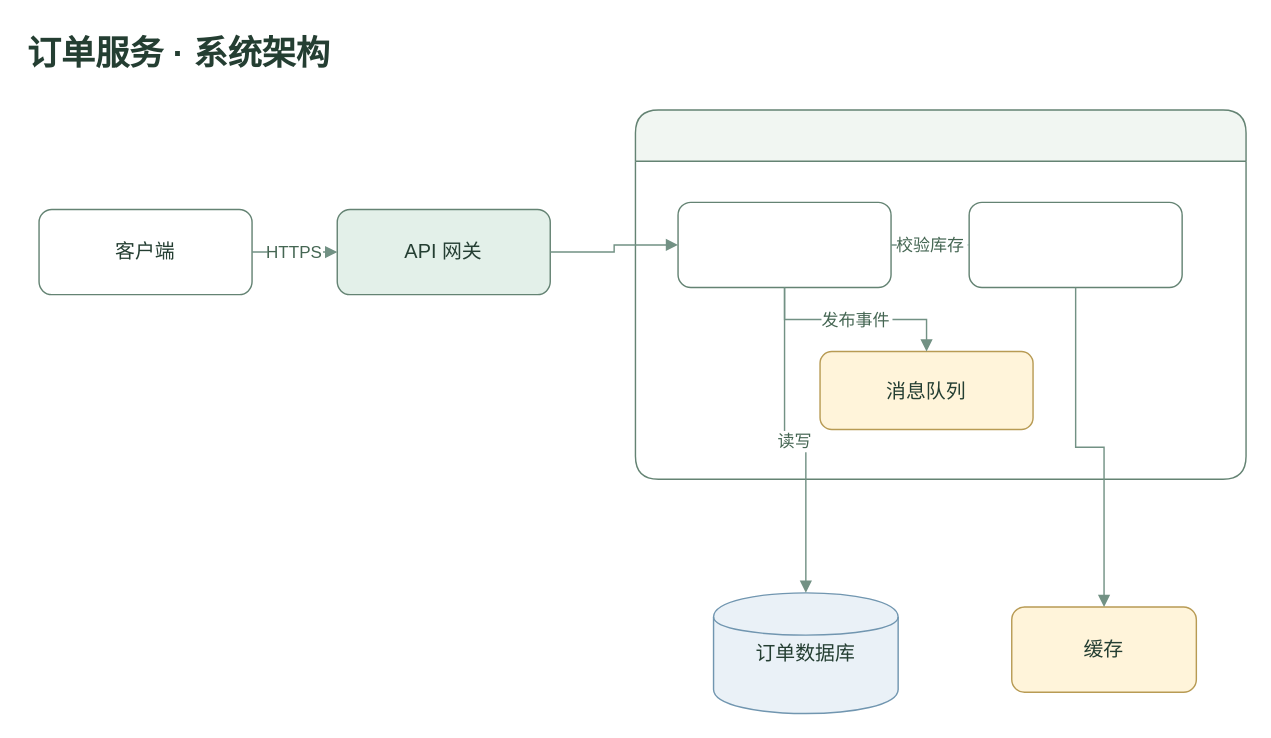
Some shapes in this 1271 by 738 pixel diagram are drawn without their labels. Here are the shapes that lost their labels. From the top down, the box of each, then its label:
(677, 201, 891, 288): 订单服务
(968, 201, 1182, 288): 库存服务
(634, 109, 1246, 479): 服务集群
